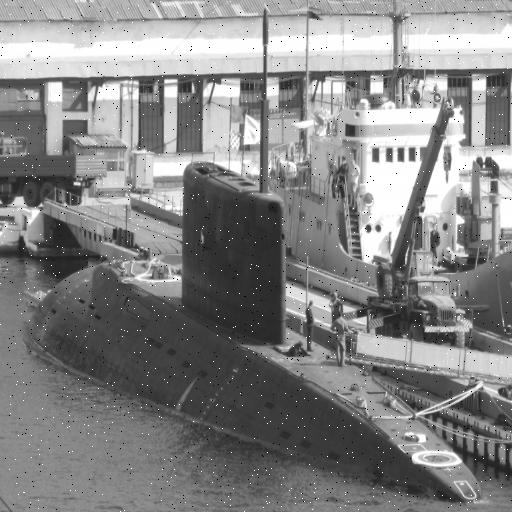submarine: (26, 152, 481, 504)
